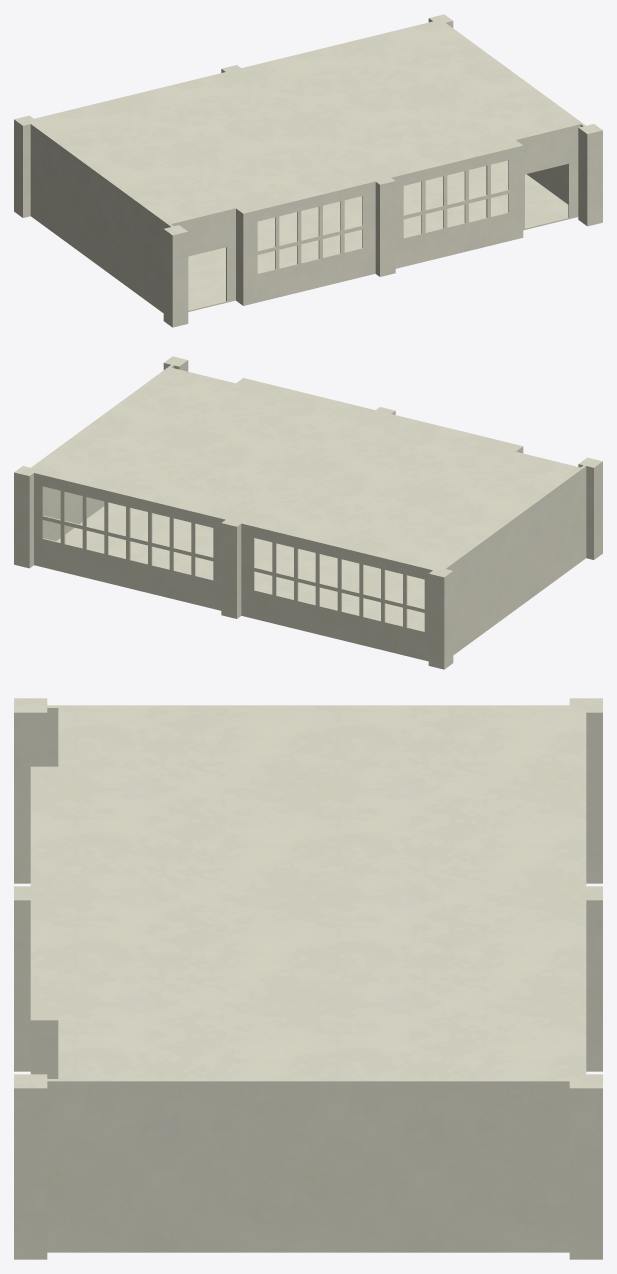
Rendered from Labor-transformed.glb.
3 views of the same model, one above another, from view 1: azimuth 30°, elevation 25°; view 2: azimuth 150°, elevation 25°; view 3: azimuth 270°, elevation 25° (orthographic). The views are drawn at different scales.
Parts seen in each view (by area): view 1: Room; view 2: Room; view 3: Room.
Boxes of the visible parts, <box> form: Room: <box>14,14,602,327</box>; Room: <box>14,356,602,669</box>; Room: <box>14,698,602,1259</box>.
Bounding box in the file's own units: 16.6 × 3.4 × 10.6.
1 material, 1 textured.
